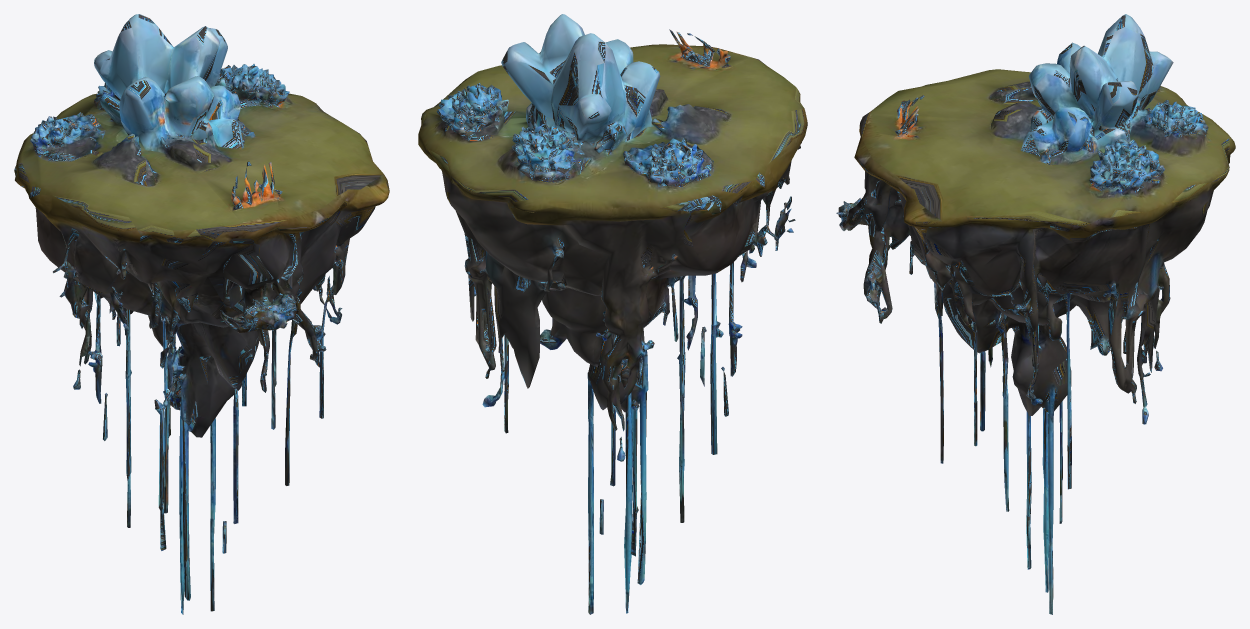
File: Ethereal_Crystal_Isla.glb
3 views of the same model, side by side, from view 1: azimuth 30°, elevation 25°; view 2: azimuth 150°, elevation 25°; view 3: azimuth 270°, elevation 25° (orthographic). The views are drawn at different scales.
Visible parts, largest first — view 1: Ethereal_Crystal_Isla; view 2: Ethereal_Crystal_Isla; view 3: Ethereal_Crystal_Isla.
Boxes of the visible parts, bbox=[...] form: Ethereal_Crystal_Isla: bbox=[14, 14, 389, 614]; Ethereal_Crystal_Isla: bbox=[418, 14, 807, 614]; Ethereal_Crystal_Isla: bbox=[836, 14, 1235, 614].
Bounding box in the file's own units: 1.09 × 1.97 × 1.22.
1 material, 1 textured.
